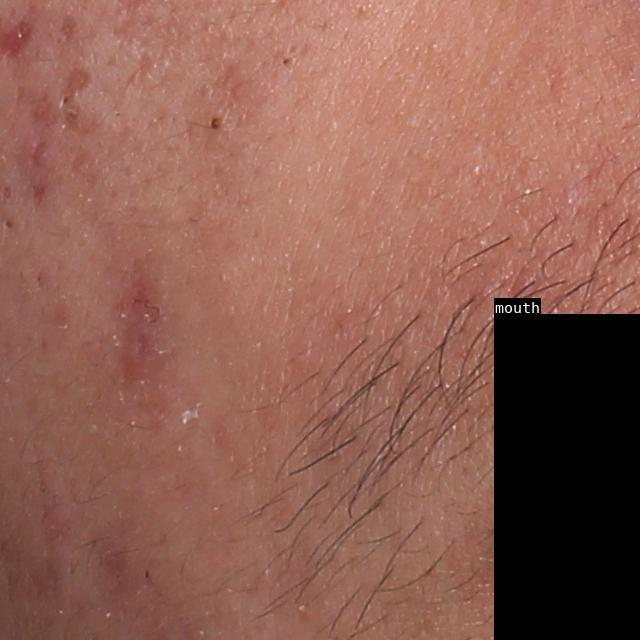atrophic_scar: (52, 11, 80, 42), (69, 66, 94, 94), (27, 141, 50, 169), (27, 185, 45, 206)
comedo: (201, 114, 227, 133), (279, 55, 298, 71), (60, 109, 81, 123), (54, 93, 73, 108), (2, 214, 14, 229)
